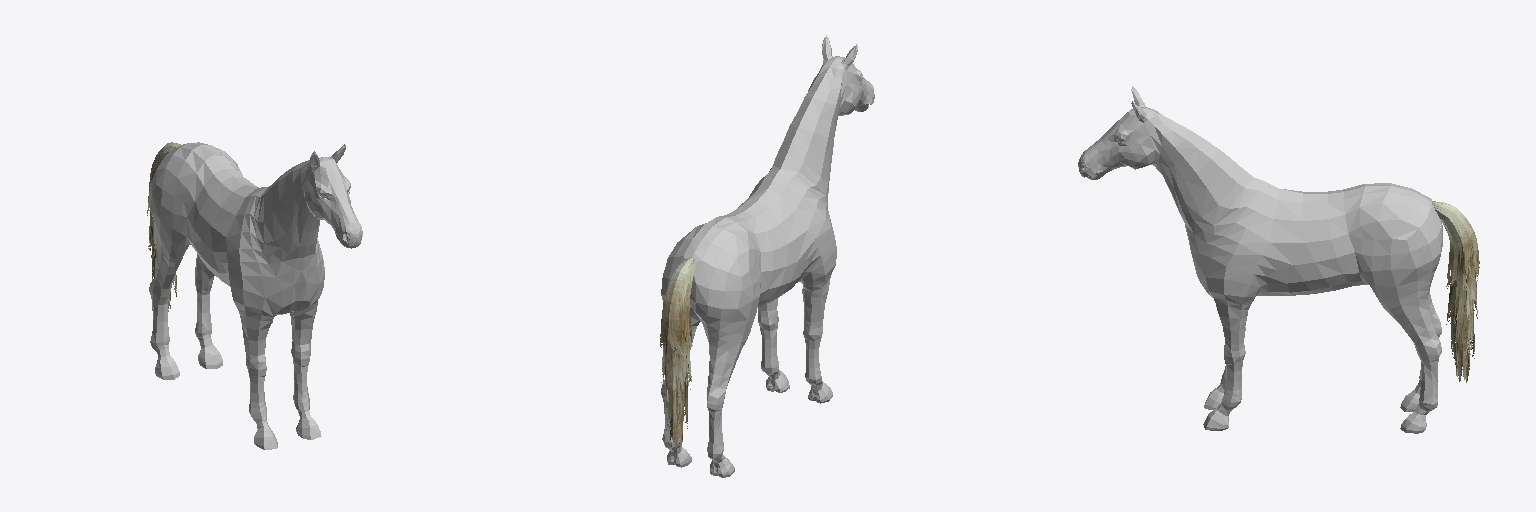
The picture shows the model from 3 angles: view 1: azimuth 30°, elevation 25°; view 2: azimuth 150°, elevation 25°; view 3: azimuth 270°, elevation 25°; orthographic projection.
Parts seen in each view (by area): view 1: Object_58, Object_56; view 2: Object_58, Object_56; view 3: Object_58, Object_56.
Boxes of the visible parts, <box> form: Object_58: <box>149,142,362,449</box>; Object_56: <box>147,142,180,311</box>; Object_58: <box>661,35,874,477</box>; Object_56: <box>660,257,695,449</box>; Object_58: <box>1078,86,1442,433</box>; Object_56: <box>1431,201,1479,382</box>.
Size of the model in its own units: 58.01 by 220 by 247.
2 materials, 1 textured.